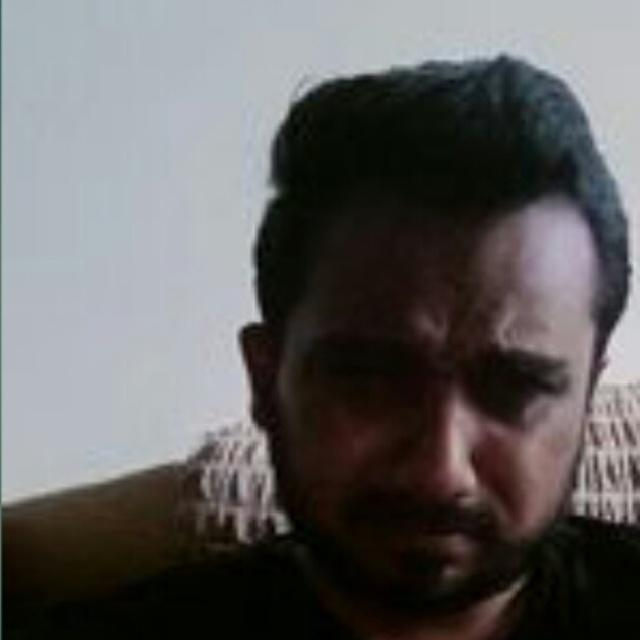Sad: (229, 192, 632, 635)
